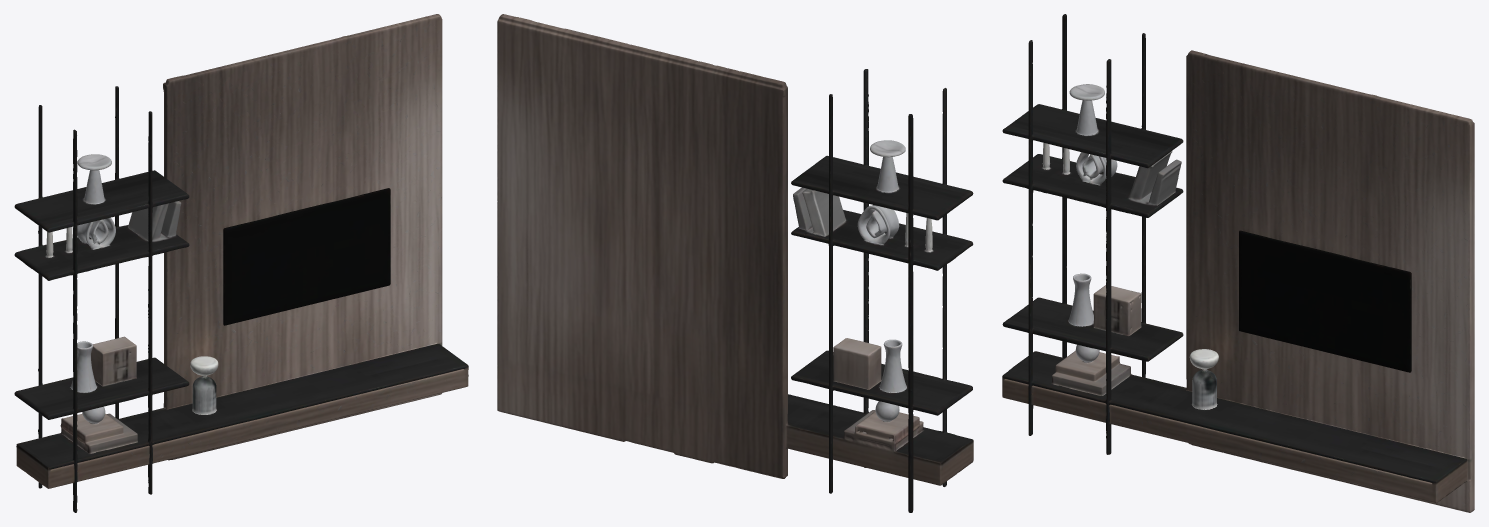
The picture shows the model from 3 angles, left to right: view 1: azimuth 30°, elevation 25°; view 2: azimuth 150°, elevation 25°; view 3: azimuth 330°, elevation 25°; orthographic projection. The views are drawn at different scales.
Visible parts, largest first — view 1: world; view 2: world; view 3: world.
Boxes of the visible parts, <box> form: world: <box>14,14,468,512</box>; world: <box>497,14,973,512</box>; world: <box>1002,14,1474,512</box>.
Bounding box in the file's own units: 1 × 0.8673 × 0.1488.
Materials: 1 (1 with a texture image).
